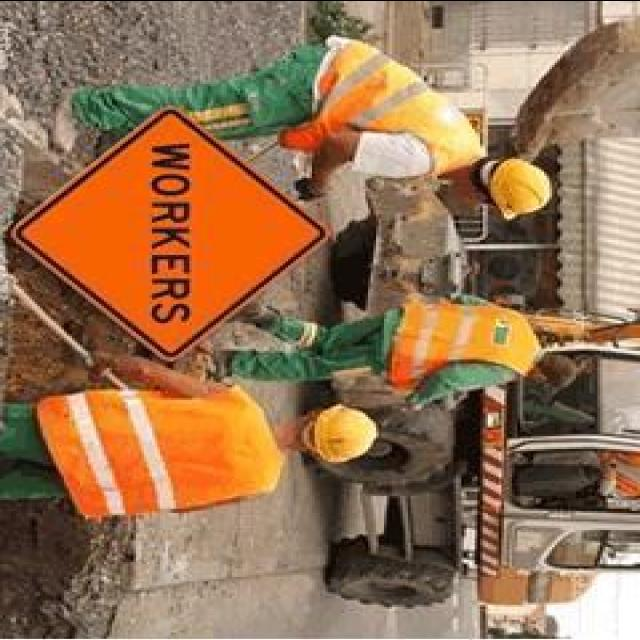helmet: (486, 158, 564, 222), (308, 406, 382, 462)
jacket: (57, 383, 278, 515), (296, 36, 484, 180), (384, 288, 540, 398)
